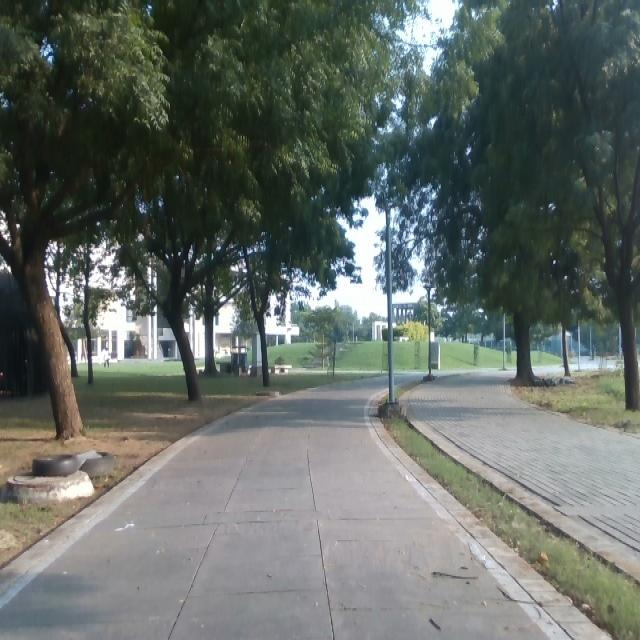lane: (0, 377, 552, 640)
